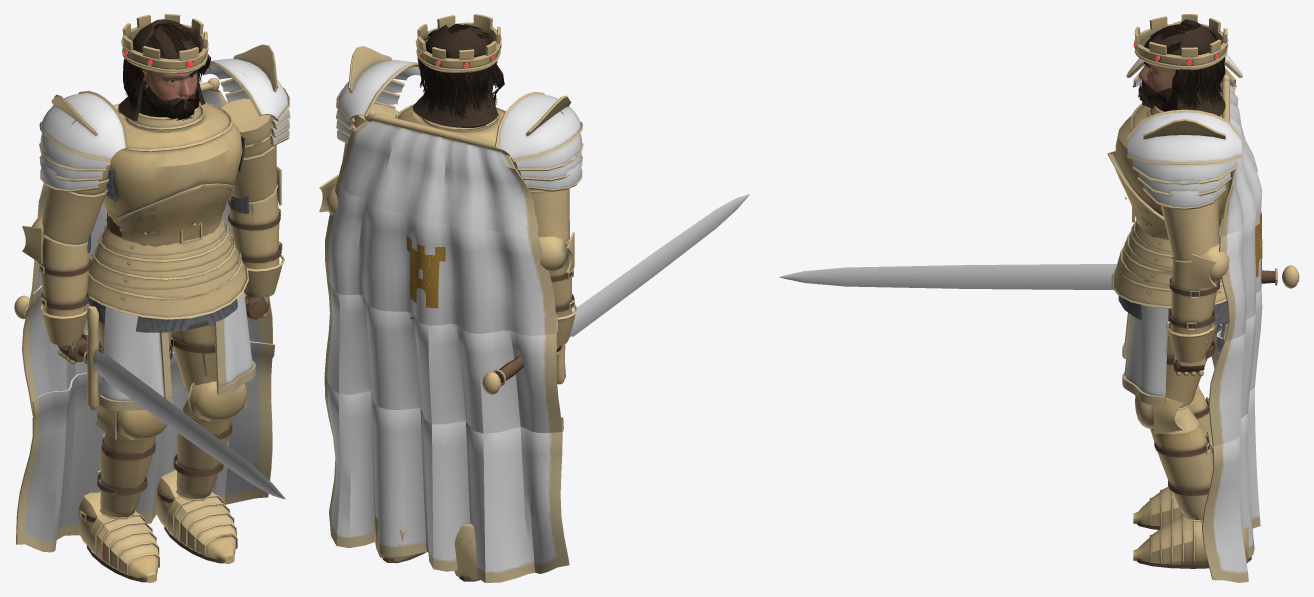
Rendered from ARAKING.glb.
The picture shows the model from 3 angles, left to right: view 1: azimuth 30°, elevation 25°; view 2: azimuth 150°, elevation 25°; view 3: azimuth 270°, elevation 25°; orthographic projection. The views are drawn at different scales.
Visible parts, largest first — view 1: cape4, torso, hip, pauldron_R, head, sword, shin_R, thigh_L, thigh_R, foot_R, shin_L, foot_L (+11 smaller); view 2: cape4, cape3, cape2, cape1, pauldron_R, head, sword, pauldron_L, headcards, forearm_R, upperarm_R, emblem (+2 smaller); view 3: pauldron_L, sword, cape4, head, shin_L, thigh_L, hip, cape3, forearm_L, cape2, foot_L, torso (+5 smaller).
Part boxes in pixels (bbox=[...]): cape4: bbox=[16, 341, 274, 552]; torso: bbox=[103, 101, 245, 246]; hip: bbox=[87, 212, 248, 332]; pauldron_R: bbox=[39, 91, 129, 192]; head: bbox=[118, 14, 208, 120]; sword: bbox=[14, 295, 285, 499]; shin_R: bbox=[95, 397, 167, 519]; thigh_L: bbox=[171, 291, 256, 395]; thigh_R: bbox=[98, 306, 172, 411]; foot_R: bbox=[78, 492, 159, 582]; shin_L: bbox=[173, 381, 247, 500]; foot_L: bbox=[156, 470, 237, 563]; cape4: bbox=[324, 376, 569, 582]; cape3: bbox=[324, 280, 562, 433]; cape2: bbox=[325, 178, 556, 335]; cape1: bbox=[338, 109, 537, 236]; pauldron_R: bbox=[495, 91, 583, 191]; head: bbox=[412, 14, 501, 127]; sword: bbox=[482, 194, 749, 394]; pauldron_L: bbox=[336, 46, 420, 143]; headcards: bbox=[417, 24, 504, 119]; forearm_R: bbox=[538, 232, 574, 317]; upperarm_R: bbox=[511, 157, 570, 243]; emblem: bbox=[406, 237, 445, 308]; pauldron_L: bbox=[1126, 109, 1242, 209]; sword: bbox=[779, 264, 1299, 289]; cape4: bbox=[1202, 324, 1260, 582]; head: bbox=[1133, 14, 1228, 116]; shin_L: bbox=[1135, 396, 1213, 522]; thigh_L: bbox=[1122, 305, 1217, 410]; hip: bbox=[1111, 192, 1229, 327]; cape3: bbox=[1208, 287, 1262, 446]; forearm_L: bbox=[1168, 244, 1229, 341]; cape2: bbox=[1217, 171, 1262, 341]; foot_L: bbox=[1133, 515, 1251, 568]; torso: bbox=[1107, 103, 1229, 239].
Size of the model in its own units: 1.98 by 3.9 by 3.56.
14 materials, 14 textured.
